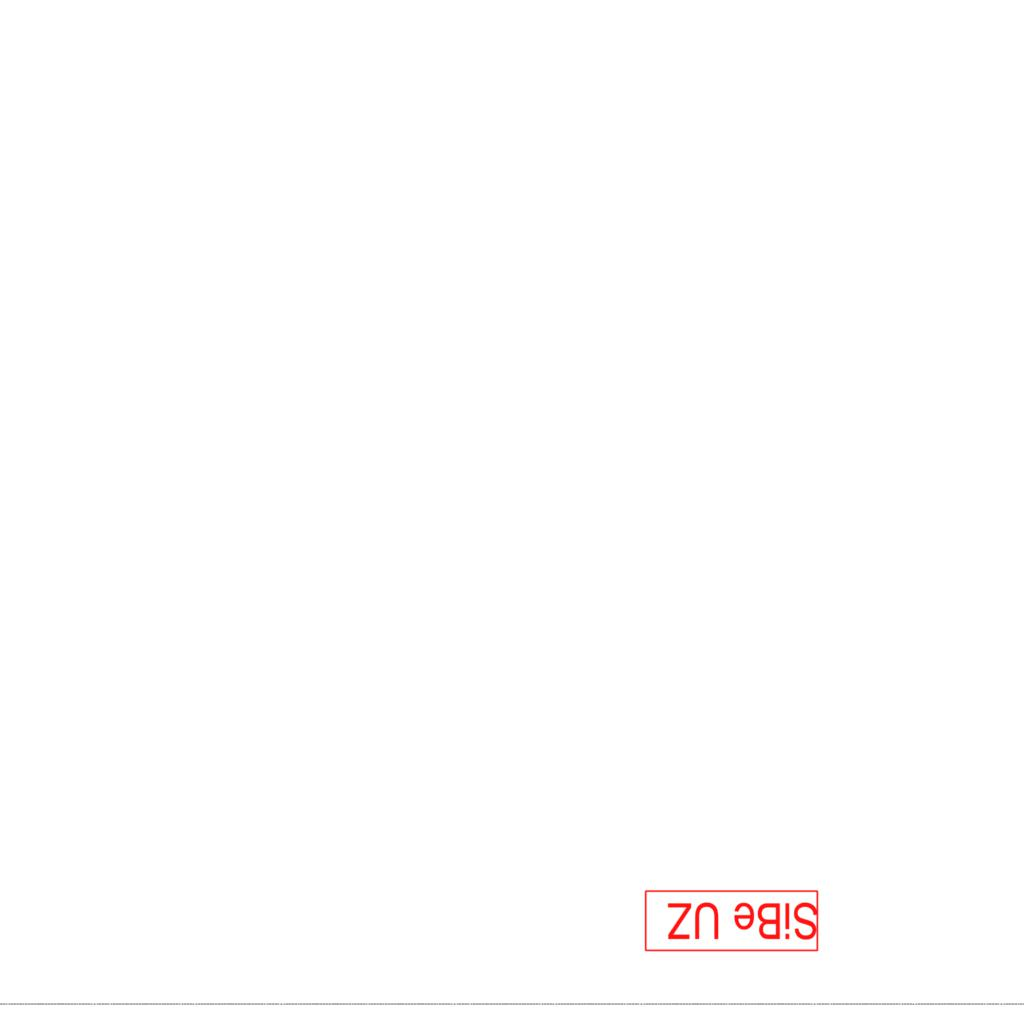Zentrale_Sicherheitsbeleuchtung: (642, 888, 820, 953)
